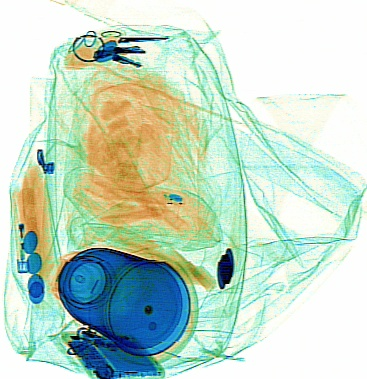lighter: (9, 187, 32, 273)
